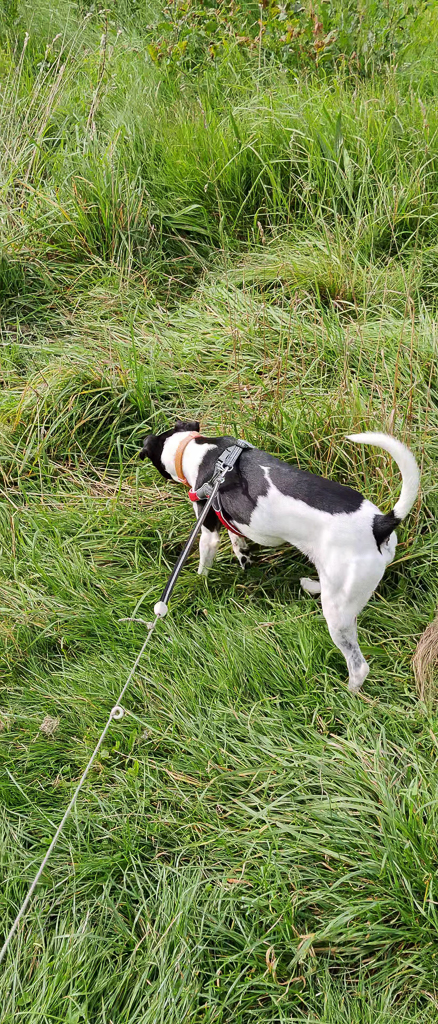Dog: (119, 396, 431, 707)
